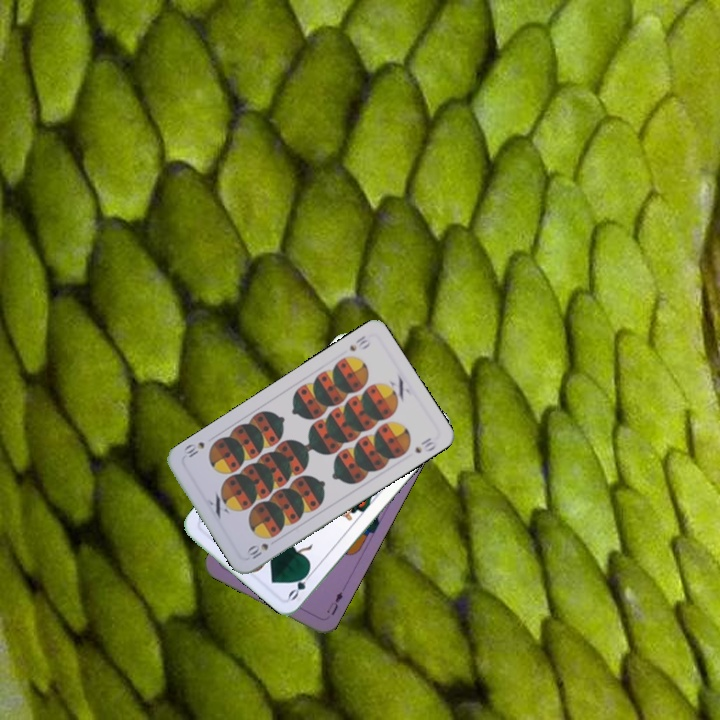EU: (322, 587, 345, 618)
GO: (284, 565, 316, 603)
S10: (243, 539, 271, 562), (345, 331, 373, 354)
